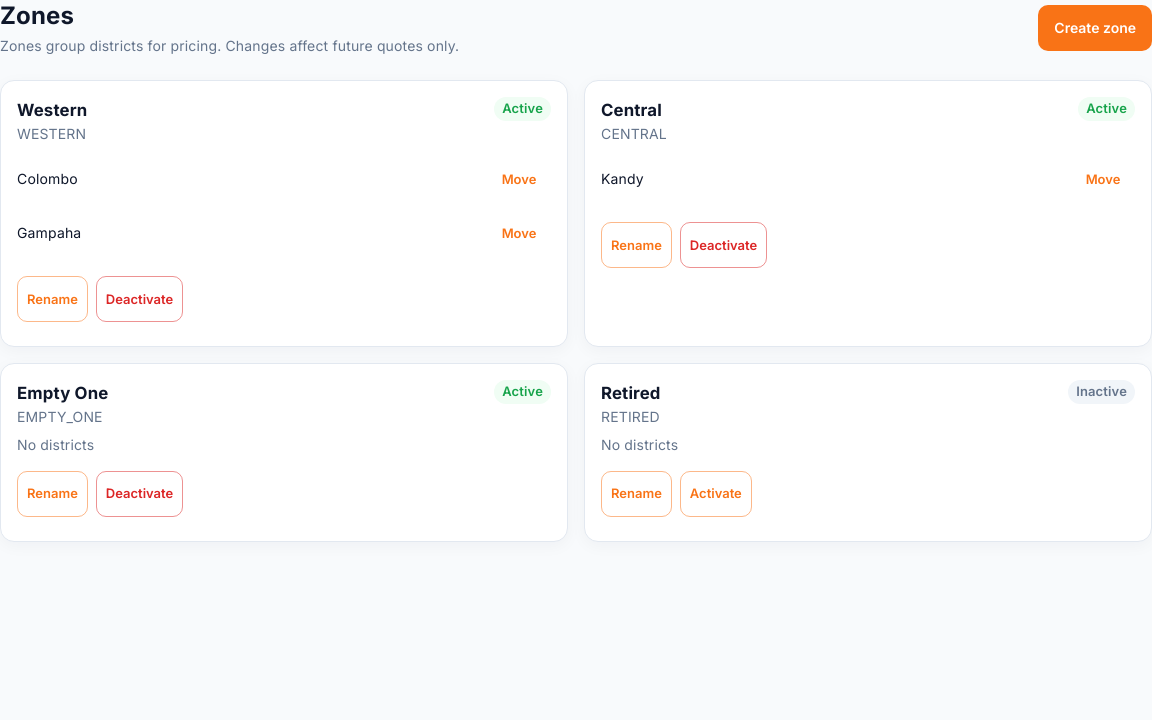
Test: TST-040 Member #5 admin zones page (FR-PRC-006) › create: a duplicate code from the server is shown on the field and the input is kept
Check: the element named "Zone Western" is shown, box [0,80,568,347]
Click the button "Create zone" at (1095, 28), box [1038,5,1151,51]
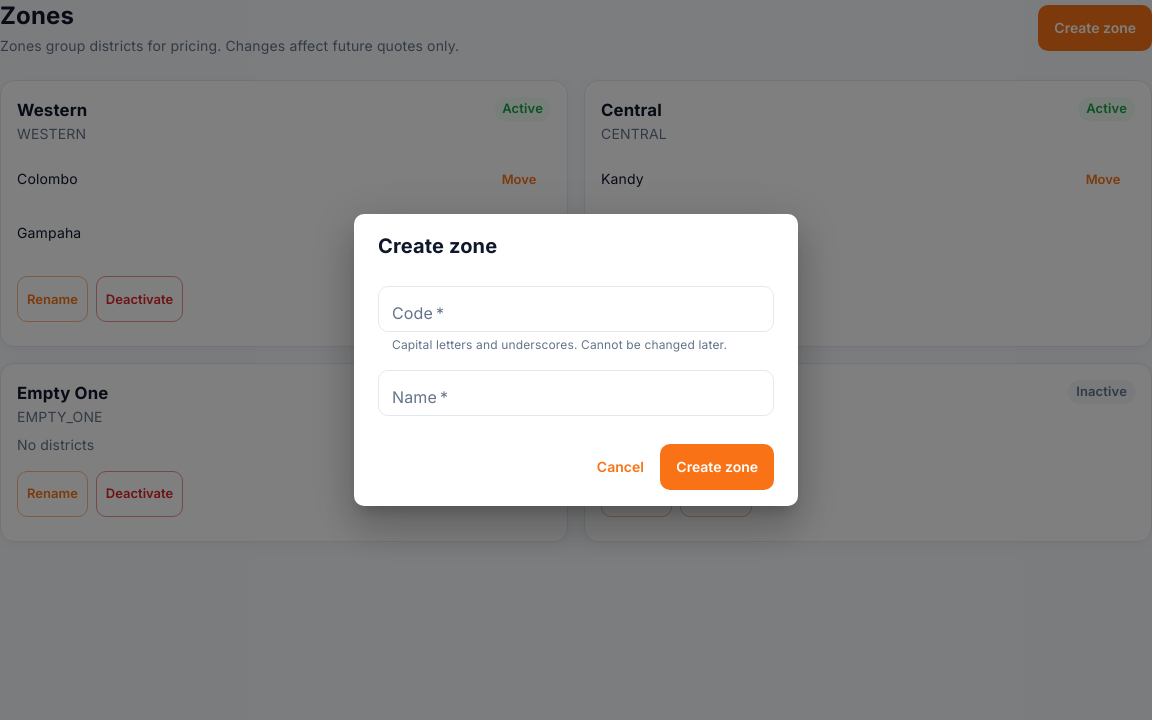
Type "WESTERN" into the field labelled "Code *" at (576, 308), box [378,286,774,332]
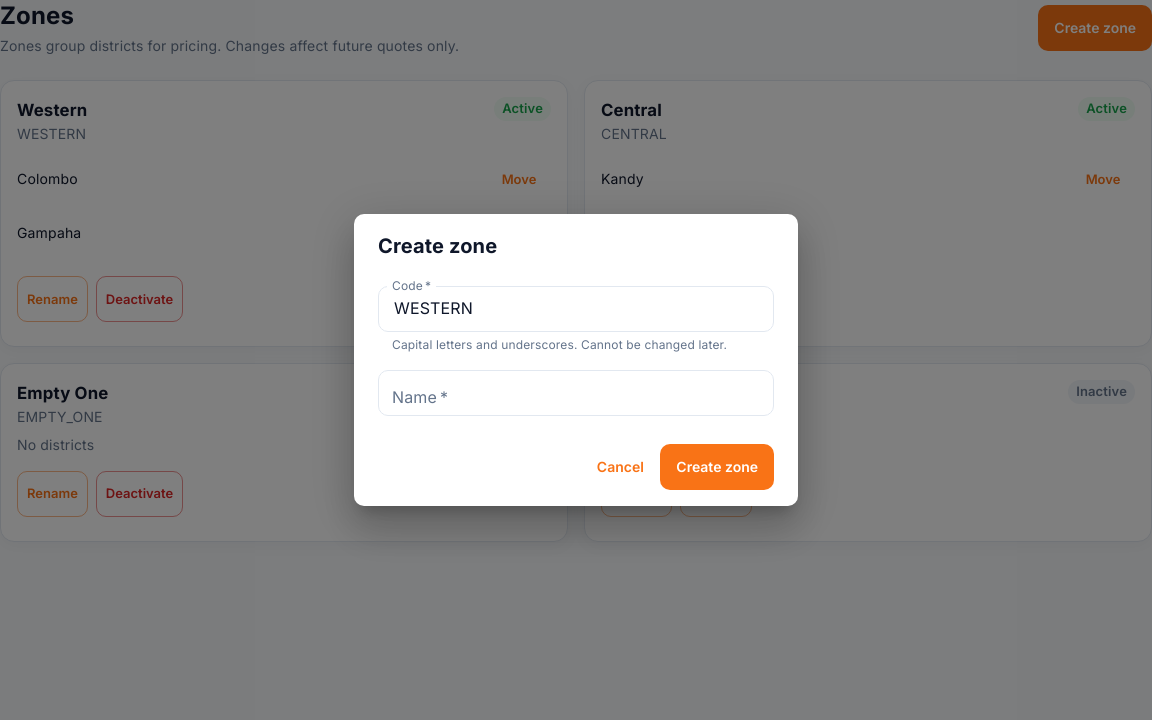
Type "Another" into the field labelled "Name *" at (576, 394), box [378,370,774,416]
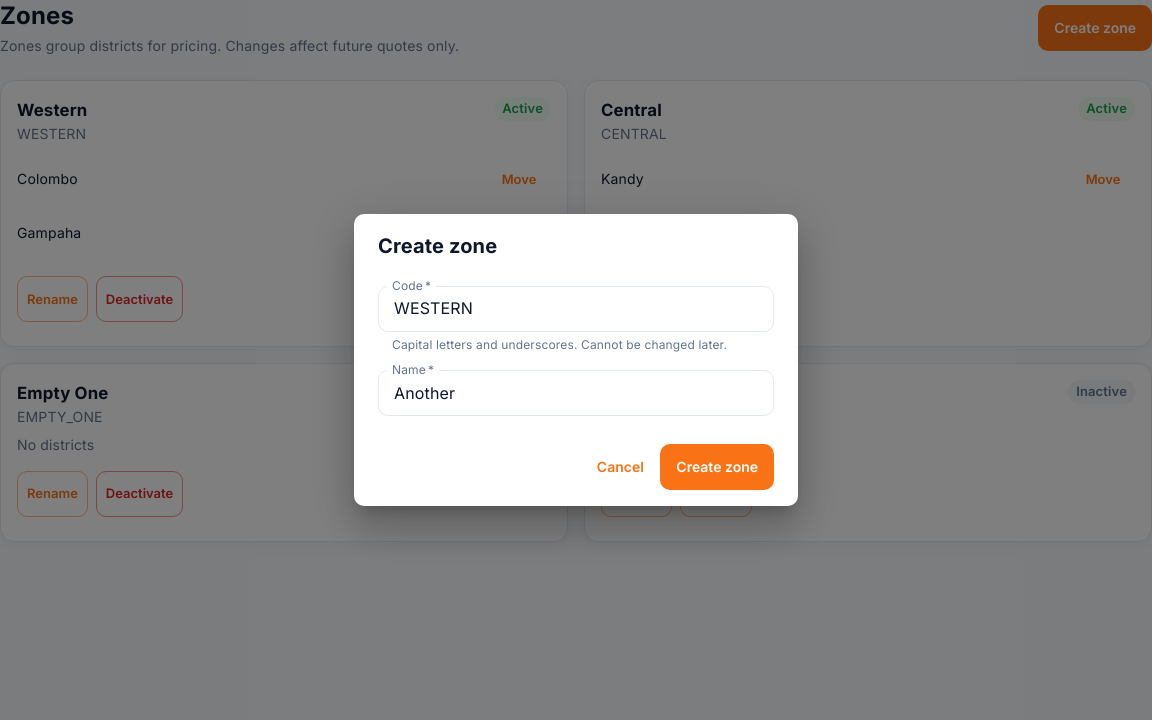
Click the button "Create zone" at (717, 468), box [660,444,774,490]
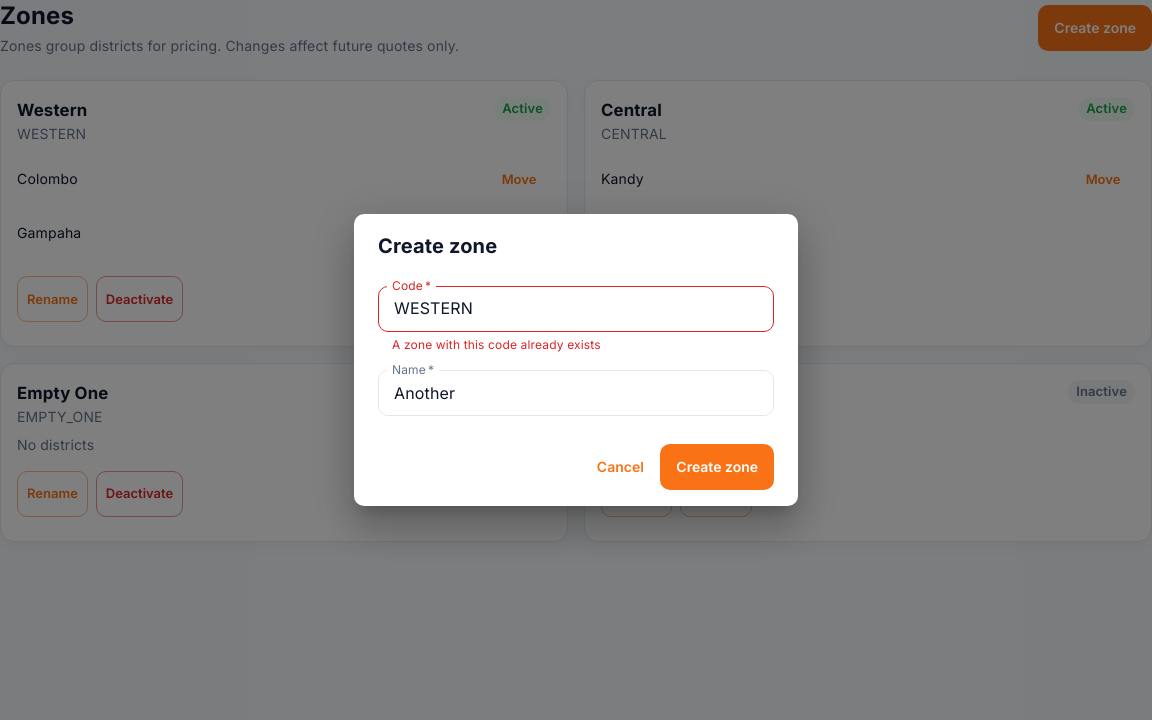
Check: the text "A zone with this code already exists" is shown, box [392,336,601,352]
